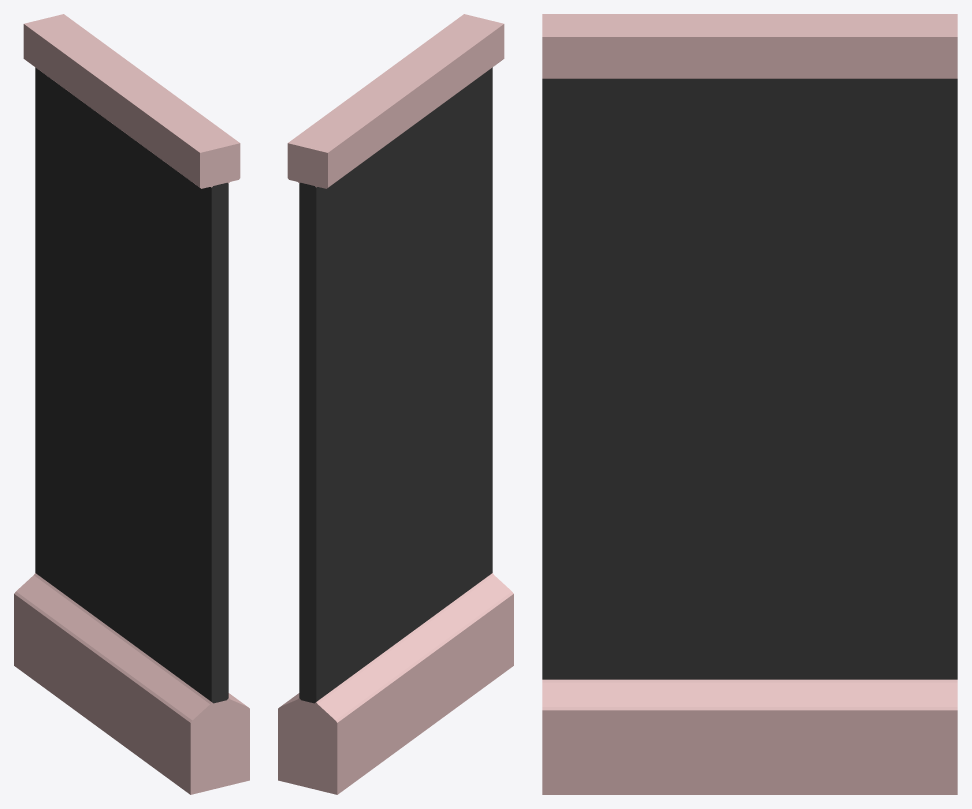
The model's file is WallPeices(Wall).fbx.
The picture shows the model from 3 angles, left to right: view 1: azimuth 30°, elevation 25°; view 2: azimuth 150°, elevation 25°; view 3: azimuth 270°, elevation 25°; orthographic projection. The views are drawn at different scales.
Parts seen in each view (by area): view 1: Wall; view 2: Wall; view 3: Wall.
Boxes of the visible parts, x1,y1,x2,y2 form: Wall: [14, 14, 249, 794]; Wall: [278, 14, 513, 794]; Wall: [542, 14, 957, 794].
Bounding box in the file's own units: 38.79 × 400 × 200.
